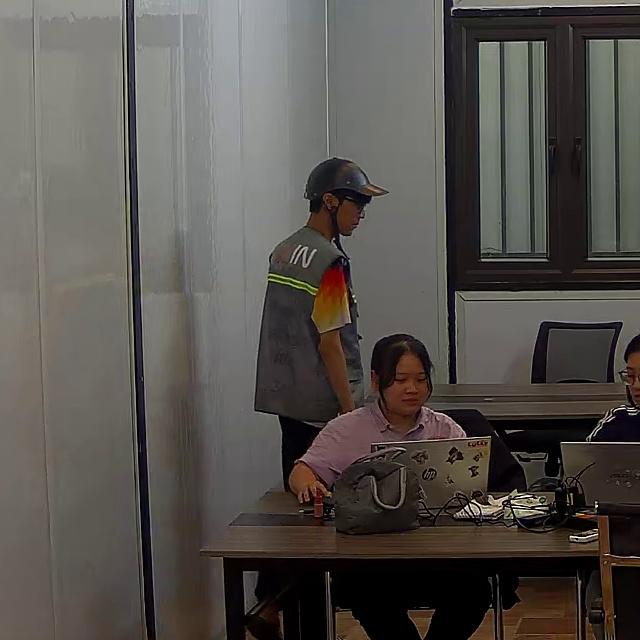helmet: (304, 156, 390, 204)
no_helmet: (369, 333, 435, 408)
none: (296, 400, 464, 491)
vest: (253, 225, 365, 422)
